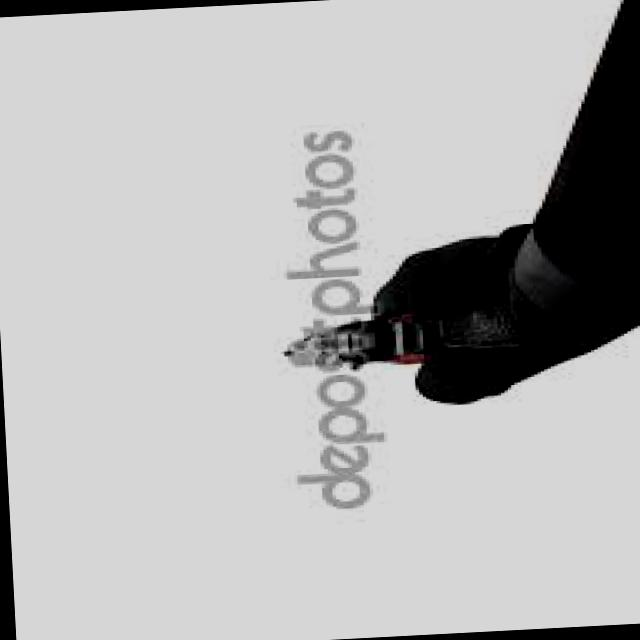handgun: (282, 309, 438, 372)
